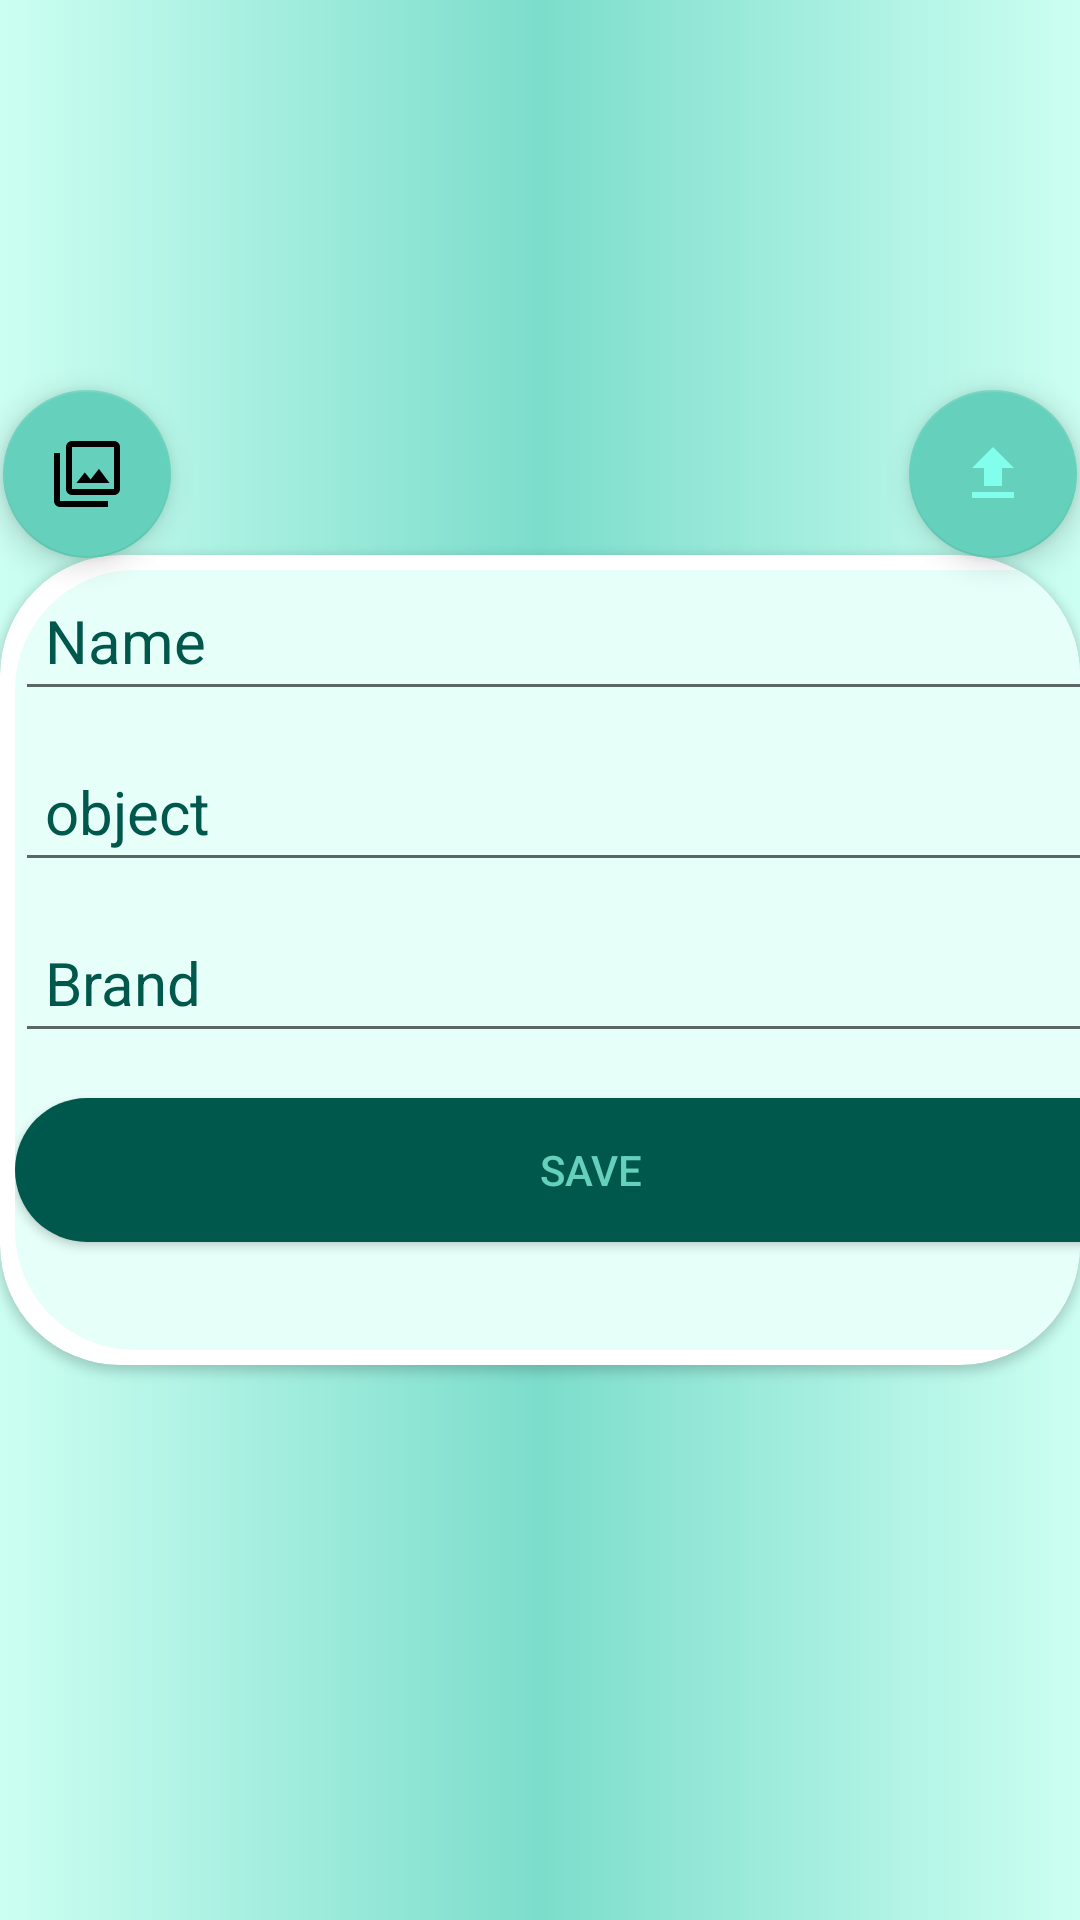

Icons on this 1080×1920 Android screen, each with its box as rect(x1, y1, x2, y2):
file upload: rect(909, 390, 1077, 558)
